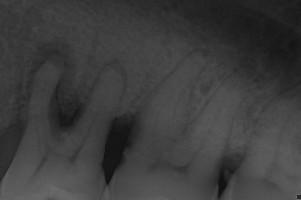Dental Caries: (27, 38, 87, 129)
Furcation Involvement: (90, 57, 128, 99)
